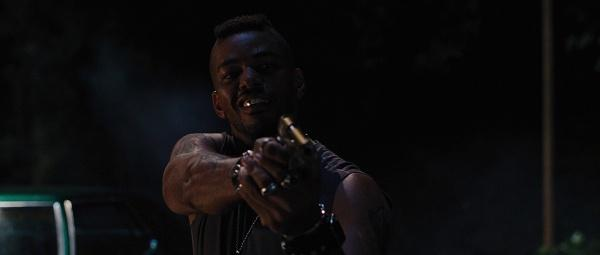Gun: (276, 114, 317, 164)
